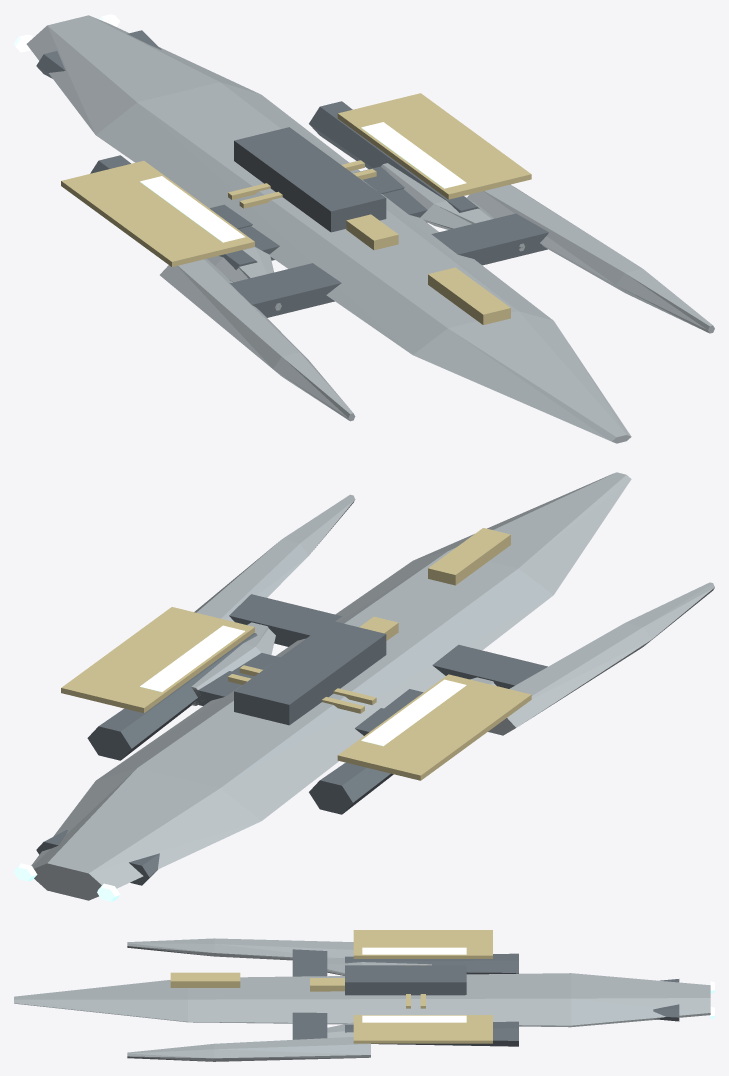
The picture shows the model from 3 angles, top to bottom: view 1: azimuth 30°, elevation 25°; view 2: azimuth 150°, elevation 25°; view 3: azimuth 270°, elevation 25°; orthographic projection. The views are drawn at different scales.
Size of the model in its own units: 6.58 by 1.07 by 16.74.
